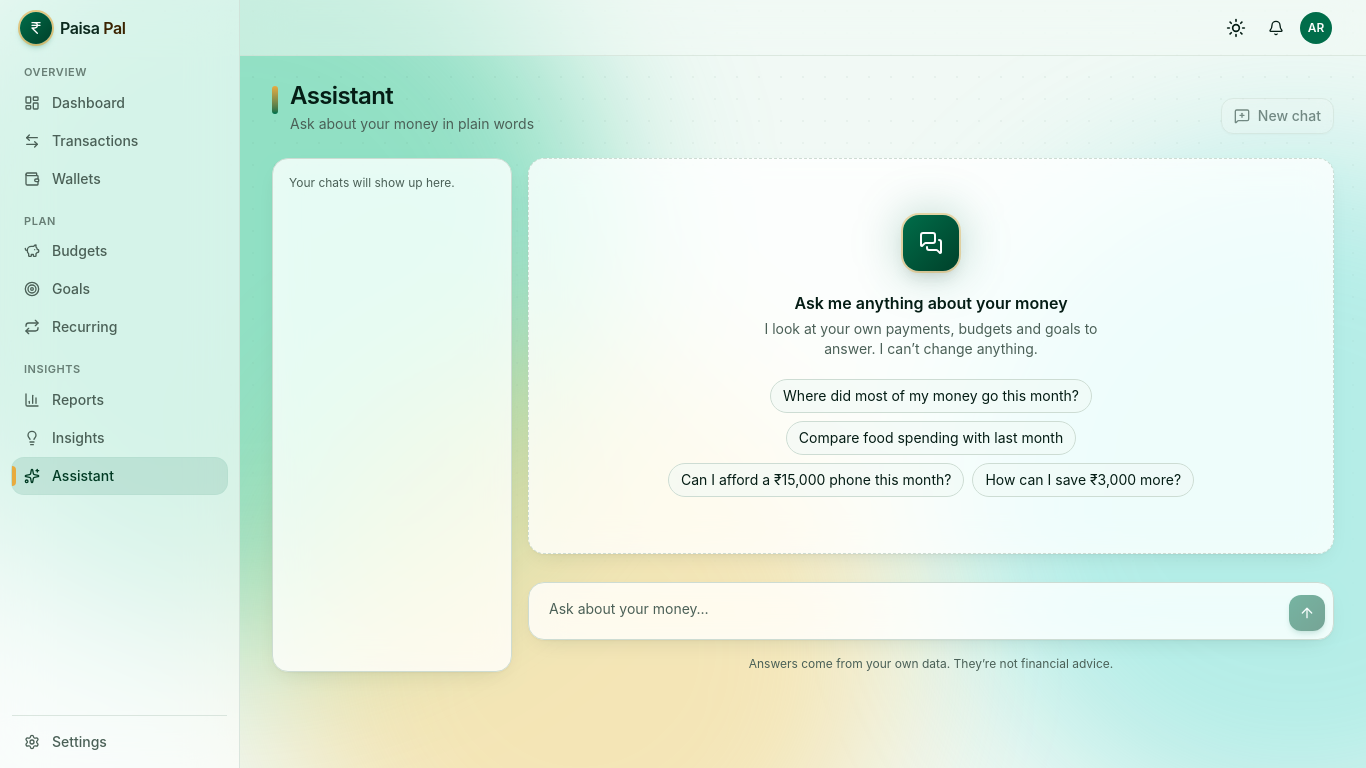
Scenario: assistant › starts a chat from a suggested question and shows the streamed answer with a chart
What coordinates should you click on to do the following:
click the button "Where did most of my money go this month?"
I would click on:
 (931, 396)
Its box is [770, 379, 1092, 413].
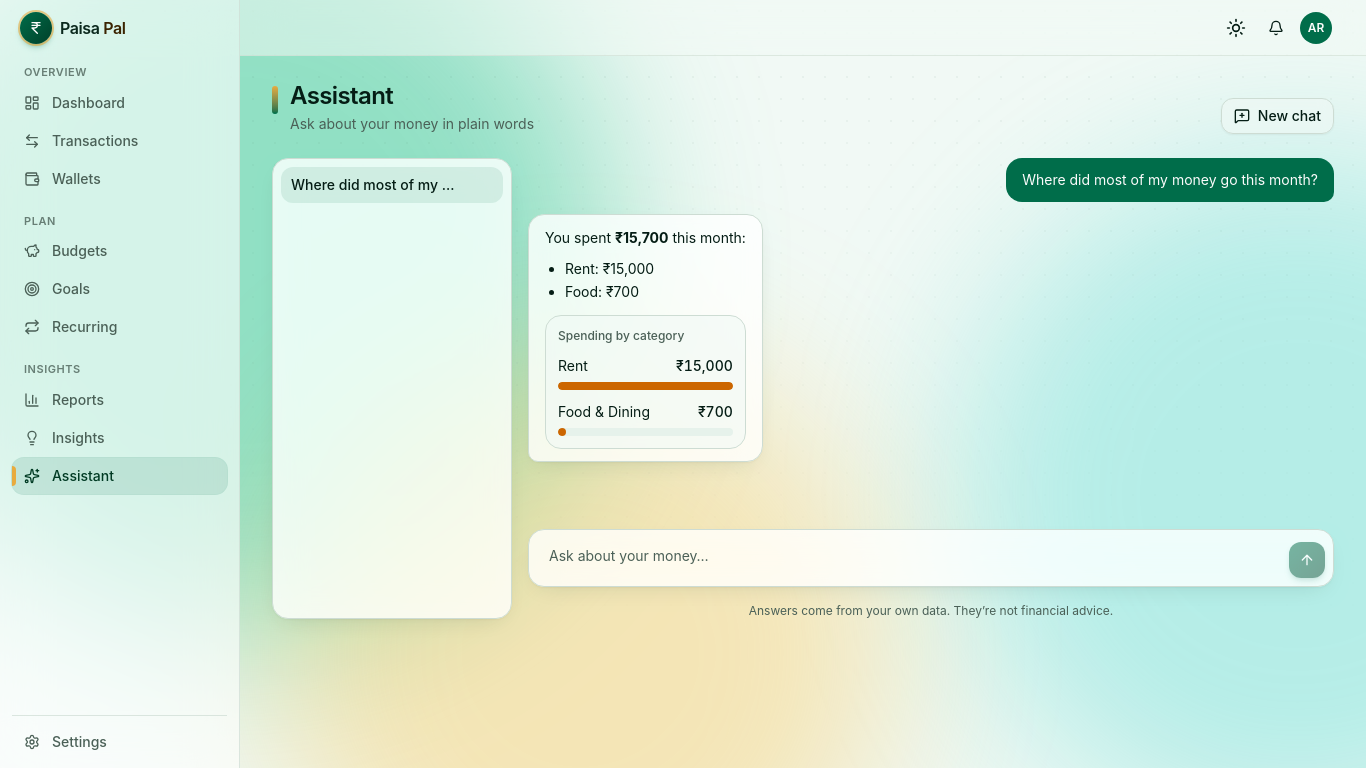
Check: the text "₹15,700" is shown, box [615, 229, 668, 246]
Check: the list item "Rent: ₹15,000" is shown, box [565, 260, 654, 277]
